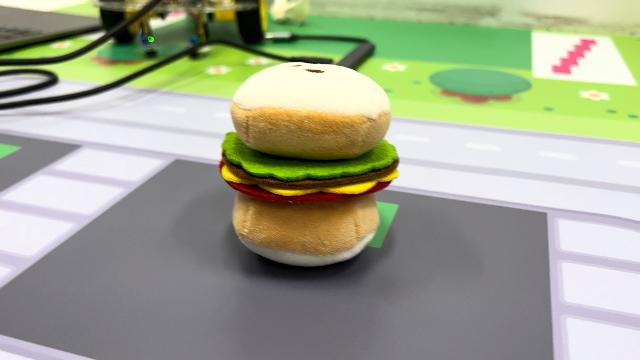sandwich: (216, 58, 402, 268)
